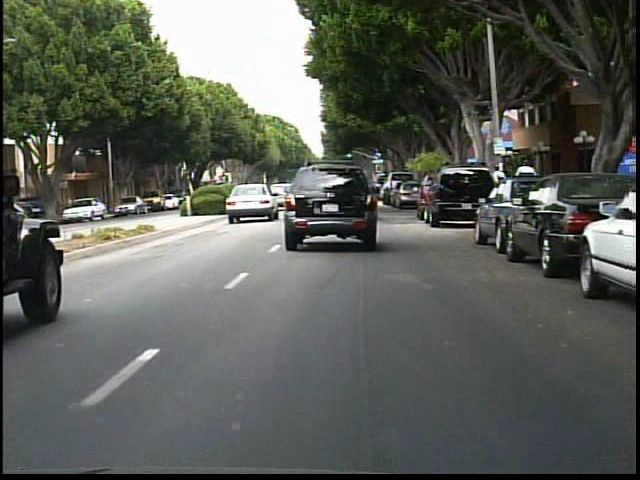person: (512, 155, 538, 217), (486, 162, 509, 212), (62, 190, 80, 222)
